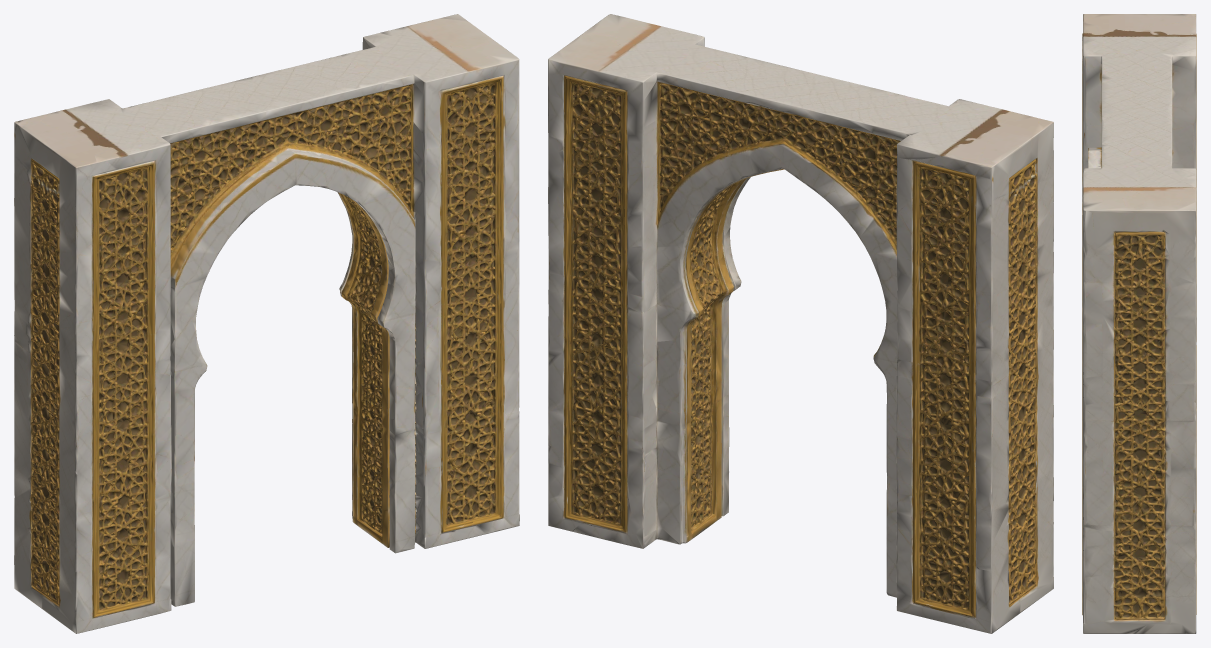
The model's file is gateway_interior.glb.
The picture shows the model from 3 angles, left to right: view 1: azimuth 30°, elevation 25°; view 2: azimuth 150°, elevation 25°; view 3: azimuth 270°, elevation 25°; orthographic projection. The views are drawn at different scales.
Visible parts, largest first — view 1: Mesh_0; view 2: Mesh_0; view 3: Mesh_0.
Boxes of the visible parts, left/top/right/bottom form: Mesh_0: left=14, top=14, right=519, bottom=633; Mesh_0: left=548, top=14, right=1053, bottom=633; Mesh_0: left=1082, top=14, right=1196, bottom=633.
Bounding box in the file's own units: 8.98 × 9 × 2.2.
1 material, 1 textured.
